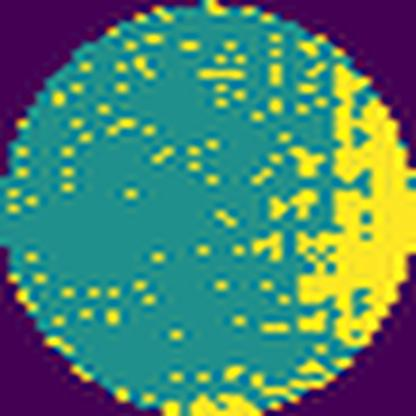Edge-Loc: (295, 59, 416, 349), (165, 387, 263, 416)
